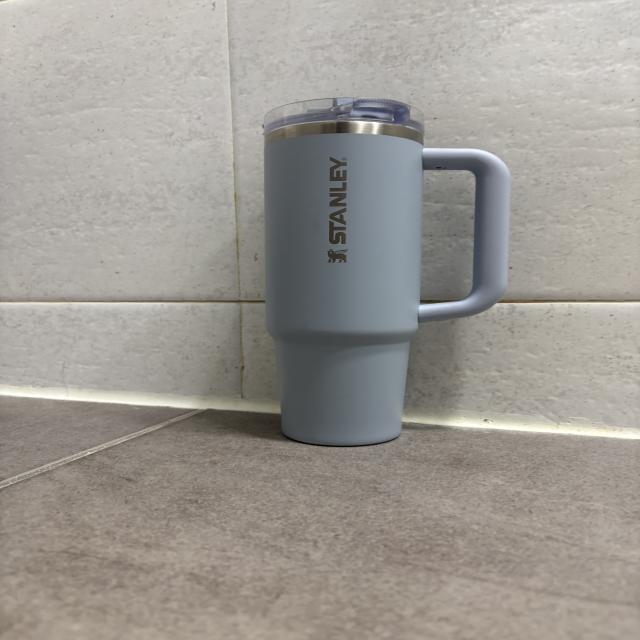waterbottle: (261, 96, 505, 447)
